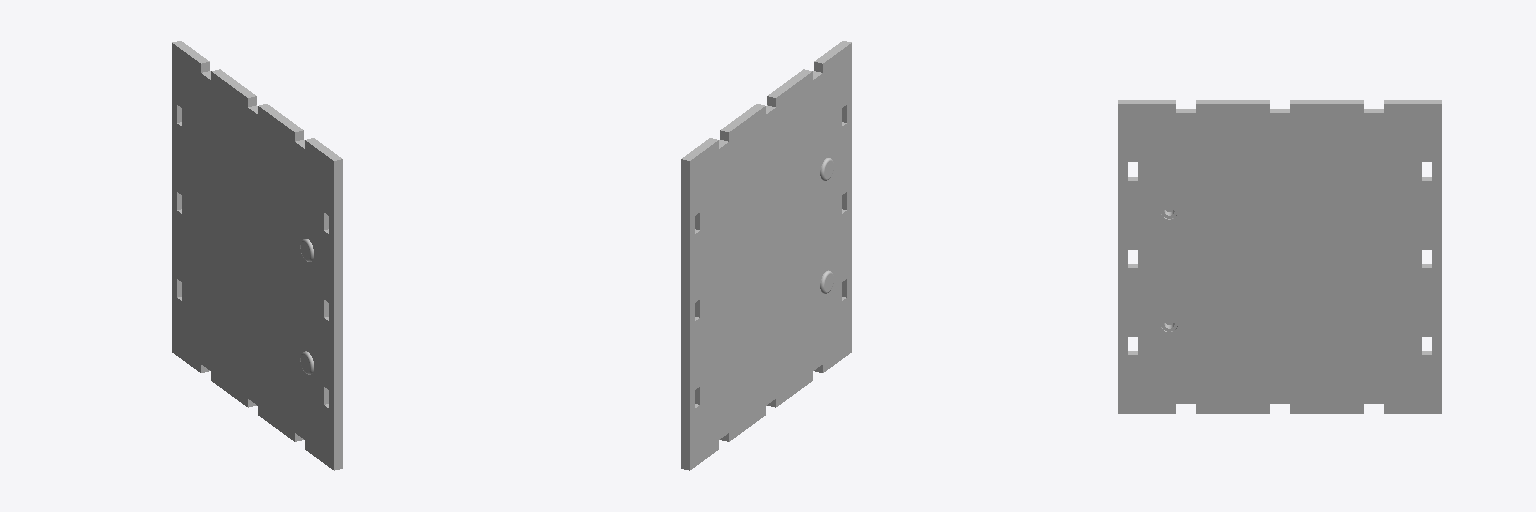
File: Top.obj
The picture shows the model from 3 angles: view 1: azimuth 30°, elevation 25°; view 2: azimuth 150°, elevation 25°; view 3: azimuth 270°, elevation 25°; orthographic projection.
Visible parts, largest first — view 1: obj1; view 2: obj1; view 3: obj1.
Boxes of the visible parts, x1=… form: obj1: x1=172, y1=41, x2=342, y2=470; obj1: x1=681, y1=41, x2=851, y2=470; obj1: x1=1118, y1=100, x2=1441, y2=413.
Bounding box in the file's own units: 4 × 100 × 95.